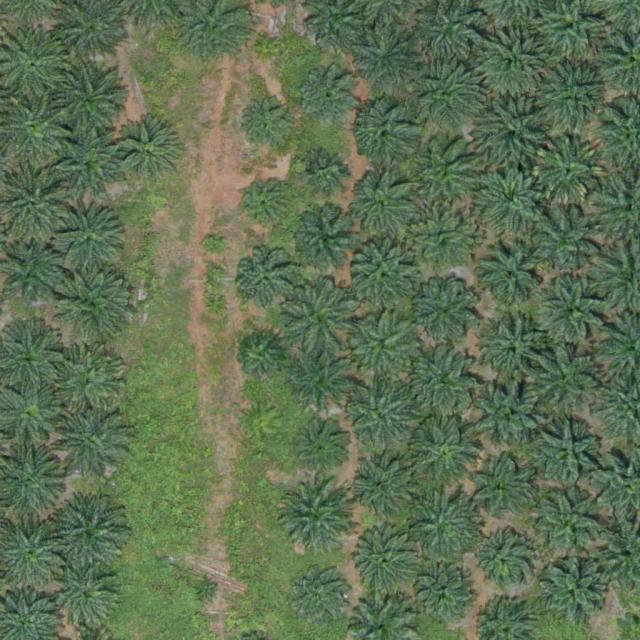Healthy: (50, 64, 128, 143), (54, 202, 132, 281), (53, 262, 131, 341), (279, 278, 357, 357), (50, 343, 128, 422), (53, 406, 131, 485), (50, 496, 128, 575), (275, 478, 353, 557), (531, 487, 609, 566), (408, 488, 486, 566), (406, 204, 477, 275), (351, 242, 422, 313), (351, 97, 422, 168), (114, 119, 185, 190), (409, 345, 480, 416), (409, 416, 480, 487), (470, 377, 541, 448), (538, 60, 608, 131), (476, 241, 546, 312), (477, 30, 547, 101), (412, 59, 482, 130), (354, 24, 425, 94), (56, 128, 126, 199), (539, 276, 609, 347), (412, 274, 483, 344), (480, 317, 550, 388), (349, 527, 419, 598), (529, 347, 599, 418), (531, 417, 601, 488), (534, 208, 604, 278), (476, 164, 546, 234), (480, 100, 550, 170), (410, 138, 480, 208), (345, 170, 415, 240), (350, 315, 420, 385), (288, 347, 358, 417), (347, 382, 417, 452), (542, 559, 612, 629), (352, 458, 415, 521), (300, 66, 362, 129), (295, 211, 357, 274), (57, 568, 119, 631), (288, 565, 350, 628), (414, 565, 476, 628), (470, 458, 532, 521), (471, 531, 533, 594), (235, 250, 297, 312), (241, 99, 296, 154), (239, 179, 294, 234), (295, 418, 350, 473), (239, 333, 286, 381), (302, 151, 349, 198)
Small: (261, 35, 285, 59), (195, 579, 219, 603), (204, 235, 227, 259)
Yellow: (534, 135, 604, 206)
